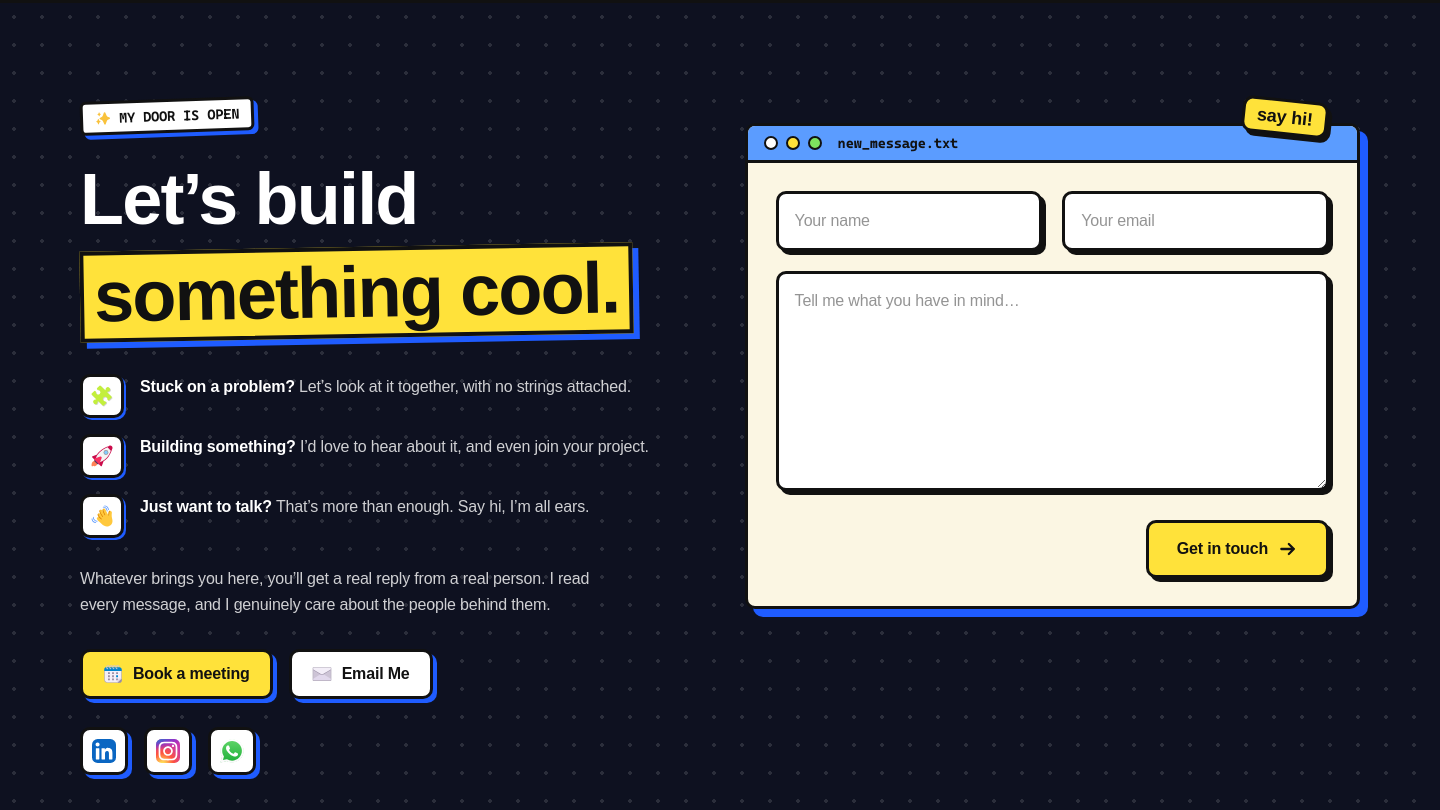
it: offers the email address when sending fails
The width and height of the screenshot is (1440, 810).
Type "Ada" into the field labelled "Your name" at point(909, 221), box top-left (776, 191), bottom-right (1042, 251)
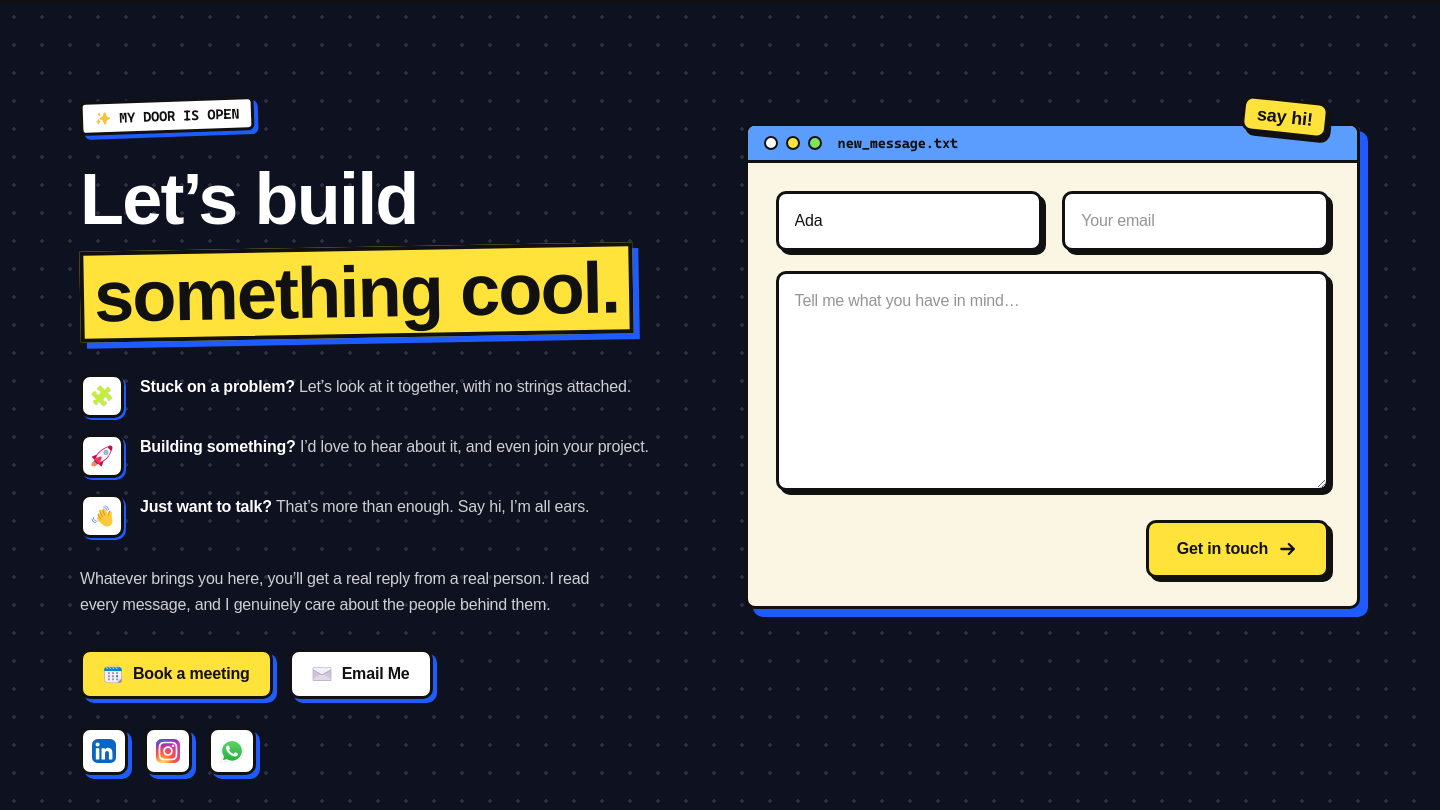
Type "ada@example.com" into the field labelled "Your email" at point(1196, 221), box top-left (1062, 191), bottom-right (1329, 251)
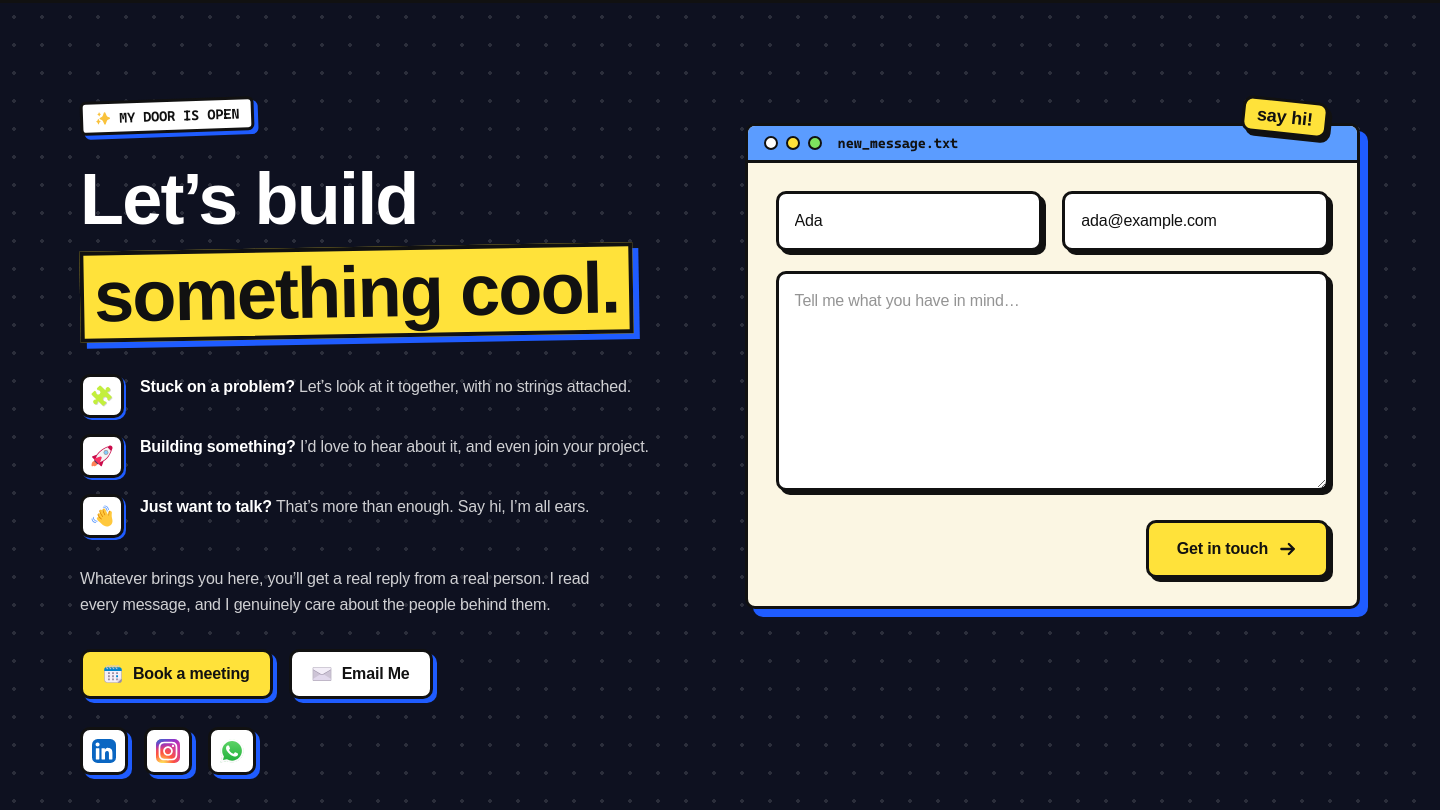
Type "We need to split a monolith into services." into the text box named "Your message" at point(1052, 381), box top-left (776, 271), bottom-right (1329, 491)
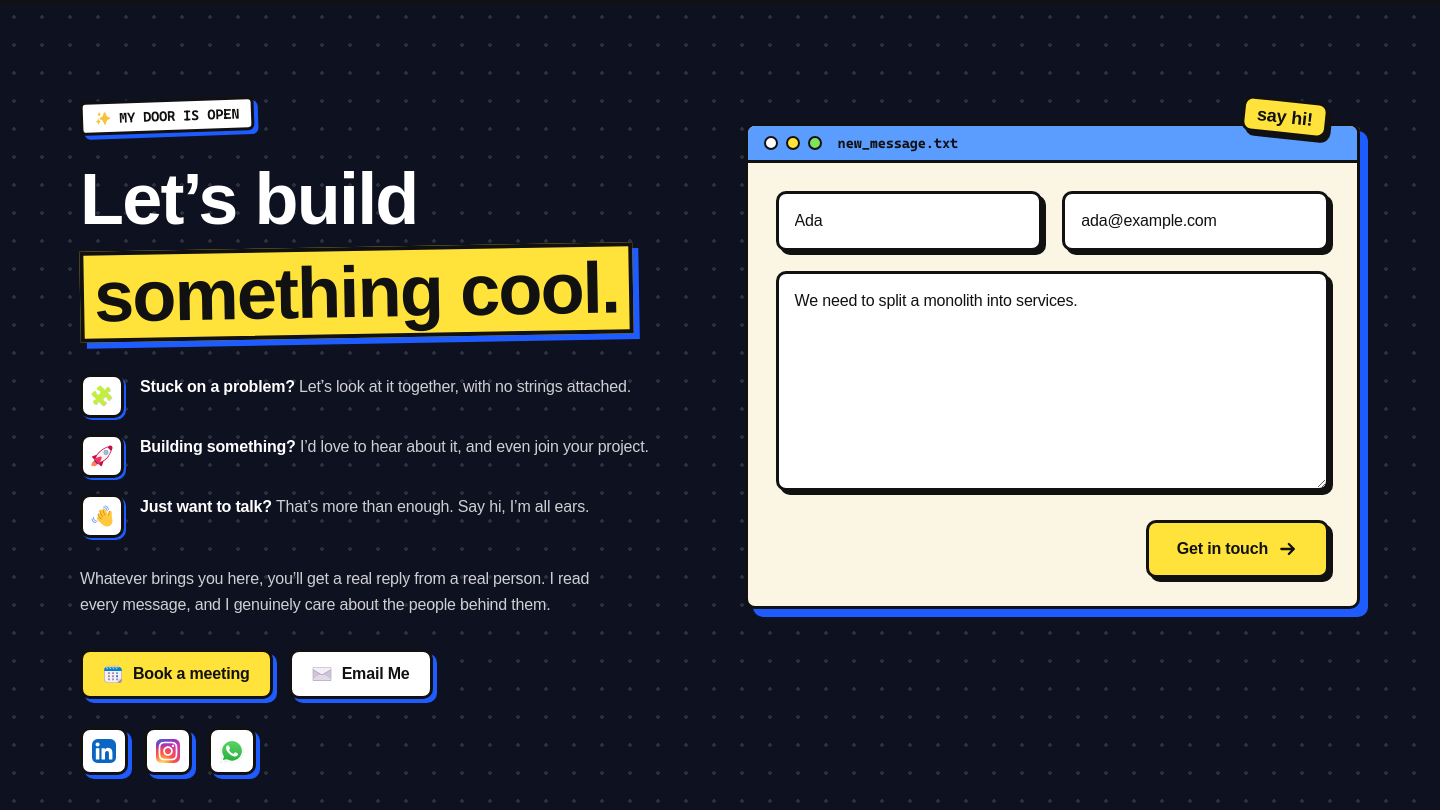
Click the button "Get in touch" at point(1237, 549), box top-left (1146, 520), bottom-right (1329, 578)
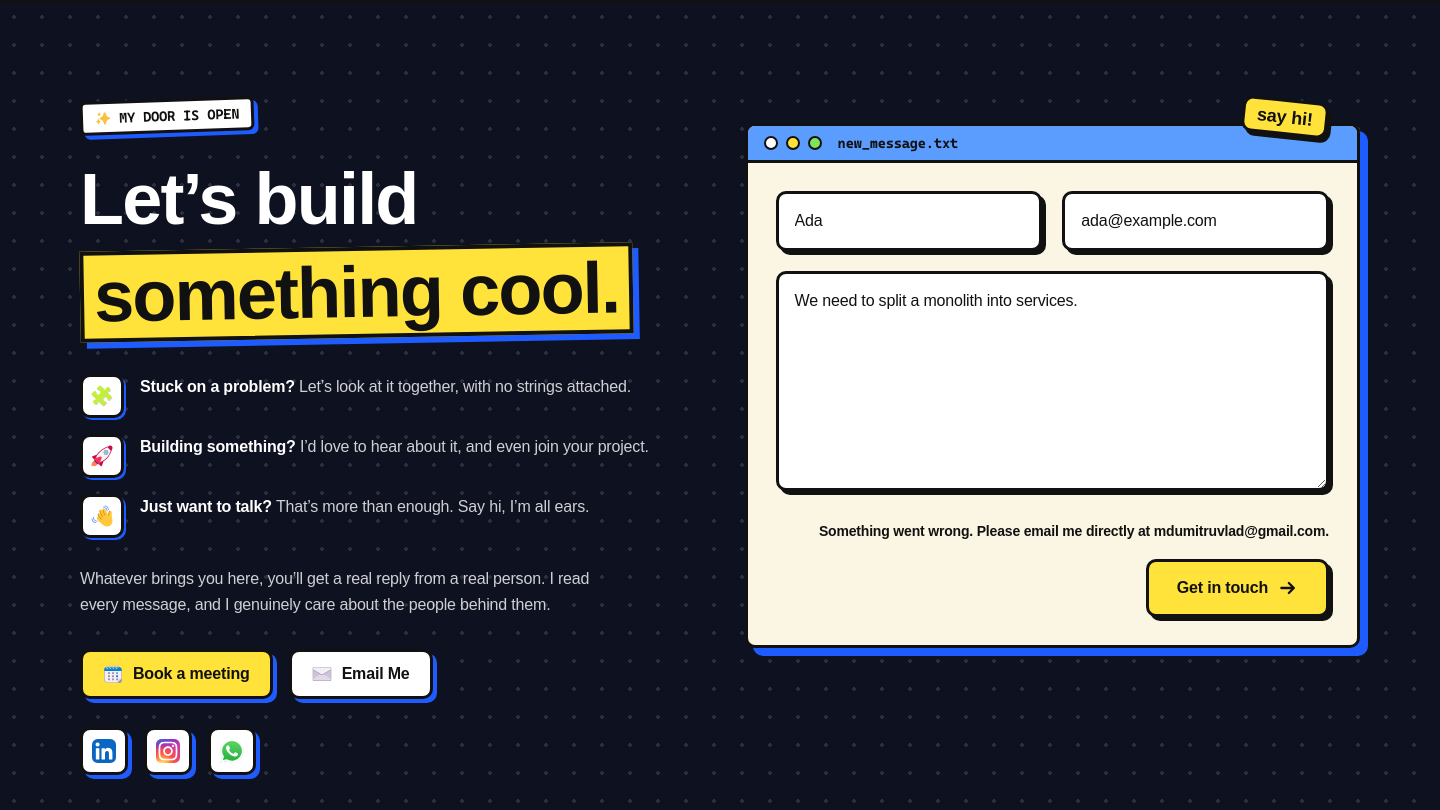
Expected: the message shows "Please email me directly", top-left (819, 523), bottom-right (1329, 539)
